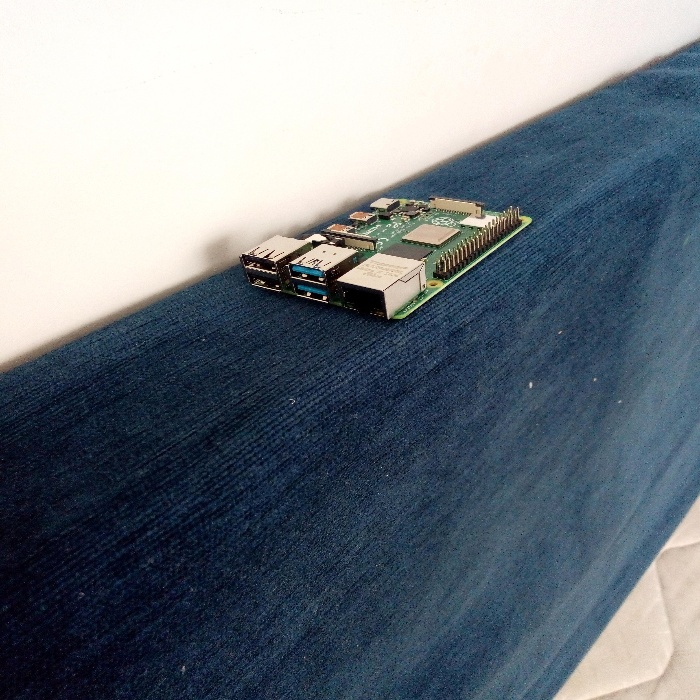raspberry: (236, 163, 528, 328)
